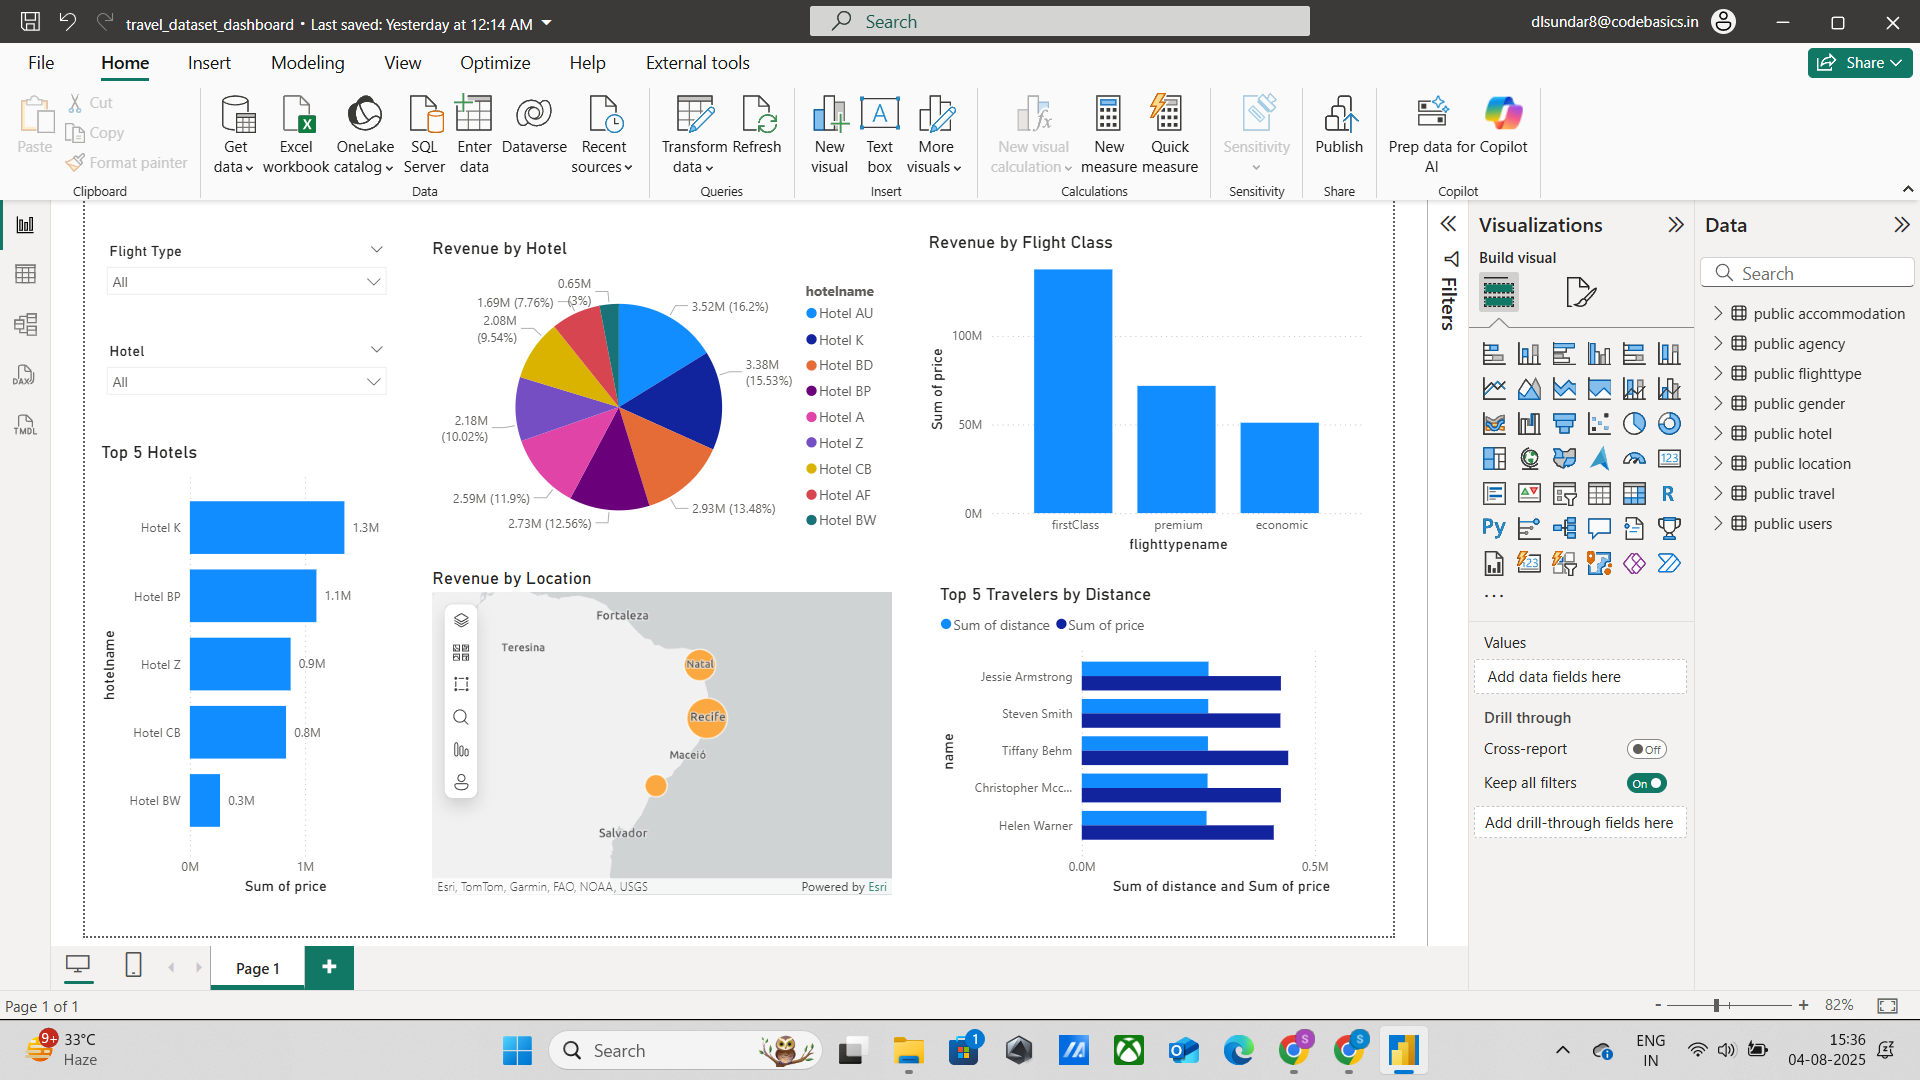

The page's visual inventory and layout, read from the dashboard file:
{"tool":"powerbi","page":{"name":"Page 1","canvas":[1280,720],"ordinal":0},"visuals":[{"type":"slicer","fields":{"Values":["public flighttype.flighttypename"]},"box":[11,37,293.7,64.5],"z":0},{"type":"slicer","fields":{"Values":["public hotel.hotelname"]},"box":[11,134.5,293.7,68.6],"z":1},{"type":"barChart","title":"Top 5 Hotels","fields":{"Category":["public hotel.hotelname"],"Y":["Sum(public accommodation.price)"]},"box":[11,236,293.7,448.7],"z":2},{"type":"pieChart","title":"Revenue by Hotel","fields":{"Category":["public hotel.hotelname"],"Y":["Sum(public accommodation.total)"]},"box":[335.1,36.7,459.8,313],"z":3},{"type":"esriVisual","title":"Revenue by Location","fields":{"Location":["public location.locationname"],"Size":["Sum(public accommodation.total)"]},"box":[334.8,359.5,459.7,325.2],"z":4},{"type":"columnChart","title":"Revenue by Flight Class","fields":{"Category":["public flighttype.flighttypename"],"Y":["Sum(public travel.price)"]},"box":[820.6,30.2,436.4,319.7],"z":5},{"type":"clusteredBarChart","title":"Top 5 Travelers by Distance","fields":{"Category":["public users.name"],"Y":["Sum(public travel.distance)","Sum(public travel.price)"]},"box":[831.6,376,436.4,308.7],"z":6}]}

Visuals, with their boxes on the page's 1280x720 design canvas (x1, y1, x2, y2). These are canvas units, not pixel positions in the 1920x1080 screenshot, which may show the page scaled, cropped or inside an application window:
slicer - public flighttype.flighttypename: region(11, 37, 305, 102)
slicer - public hotel.hotelname: region(11, 134, 305, 203)
"Top 5 Hotels" barChart: region(11, 236, 305, 685)
"Revenue by Hotel" pieChart: region(335, 37, 795, 350)
"Revenue by Location" esriVisual: region(335, 360, 794, 685)
"Revenue by Flight Class" columnChart: region(821, 30, 1257, 350)
"Top 5 Travelers by Distance" clusteredBarChart: region(832, 376, 1268, 685)
